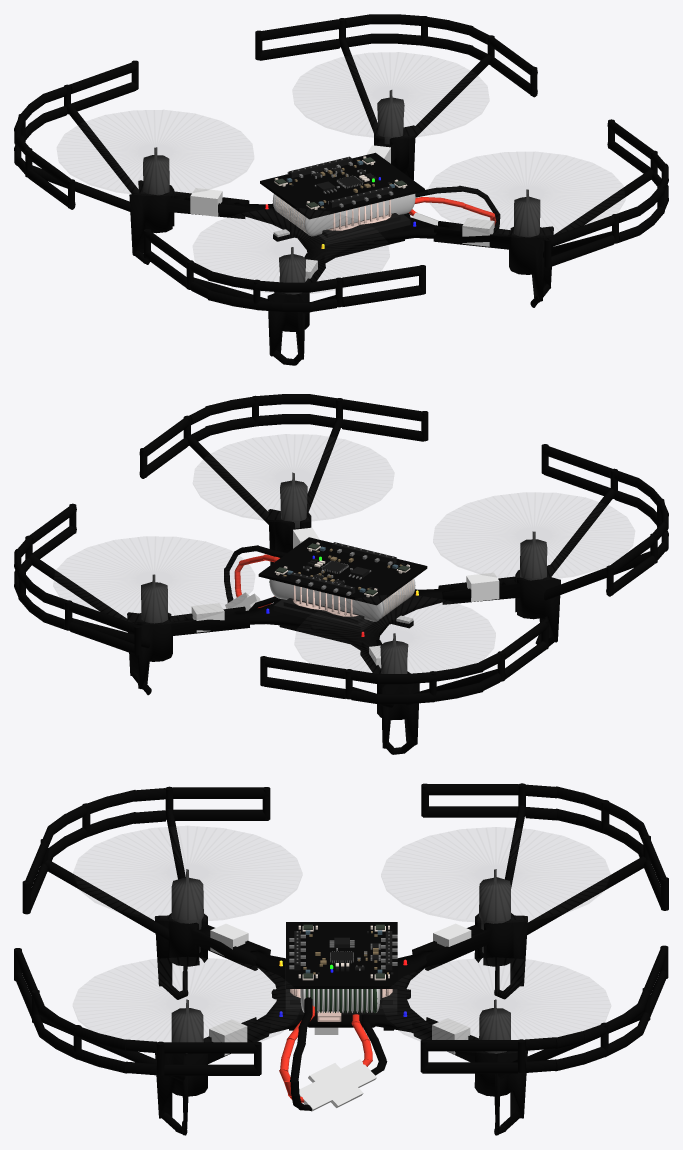
Rendered from DRONE_JUN29.glb.
The picture shows the model from 3 angles, top to bottom: view 1: azimuth 30°, elevation 25°; view 2: azimuth 150°, elevation 25°; view 3: azimuth 270°, elevation 25°; orthographic projection. The views are drawn at different scales.
Parts seen in each view (by area): view 1: 7mm motor mount Default sldprt_0, Cylinder (3) (×8), Cube (×2), 7x15 motor Default sldprt_1, pcb Default sldprt_9, Cylinder (1) (×3), Cylinder (×2), Cube (162), Cube (3), header Default sldprt_4; view 2: 7mm motor mount Default sldprt_0, Cylinder (3) (×8), Cube, 7x15 motor Default sldprt_1, pcb Default sldprt_9, Cylinder (1) (×3), Cylinder (×3), Cube (2), Cube (162), header Default sldprt_4, Cube (1), Cube (145); view 3: 7mm motor mount Default sldprt_0, Cylinder (2) (×8), Cube (×2), 7x15 motor Default sldprt_1, Cylinder (×4), pcb Default sldprt_9, Cube (1) (×2), Cube (2) (×2), Cylinder (1) (×2), Cube (3), Cube (162).
Boxes of the visible parts, box(x1,y1,x2,y2) form: 7mm motor mount Default sldprt_0: box(129, 125, 553, 359); Cylinder (3) (×8): box(69, 19, 614, 306); Cube (×2): box(190, 152, 424, 219); 7x15 motor Default sldprt_1: box(143, 90, 540, 294); pcb Default sldprt_9: box(187, 198, 498, 263); Cylinder (1) (×3): box(31, 54, 653, 236); Cylinder (×2): box(66, 37, 377, 193); Cube (162): box(313, 214, 410, 245); Cube (3): box(462, 218, 494, 246); header Default sldprt_4: box(327, 199, 391, 230); 7mm motor mount Default sldprt_0: box(127, 509, 560, 748); Cylinder (3) (×8): box(69, 399, 612, 698); Cube: box(258, 537, 427, 605); 7x15 motor Default sldprt_1: box(141, 472, 547, 673); pcb Default sldprt_9: box(184, 583, 501, 668); Cylinder (1) (×3): box(29, 434, 650, 623); Cylinder (×3): box(72, 418, 614, 648); Cube (2): box(466, 572, 499, 601); Cube (162): box(273, 599, 374, 631); header Default sldprt_4: box(293, 585, 358, 616); Cube (1): box(191, 603, 224, 632); Cube (145): box(283, 598, 364, 624); 7mm motor mount Default sldprt_0: box(154, 913, 527, 1128); Cylinder (2) (×8): box(164, 784, 518, 1075); Cube (×2): box(286, 922, 471, 988); 7x15 motor Default sldprt_1: box(171, 869, 510, 1053); Cylinder (×4): box(38, 856, 646, 1076); pcb Default sldprt_9: box(211, 951, 431, 1042); Cube (1) (×2): box(299, 1018, 470, 1111); Cube (2) (×2): box(210, 923, 363, 1107); Cylinder (1) (×2): box(165, 805, 525, 888); Cube (3): box(209, 1019, 247, 1055); Cube (162): box(285, 962, 397, 1014).
Size of the model in its own units: 9.74 by 2.64 by 10.31.
21 materials, 1 textured.
